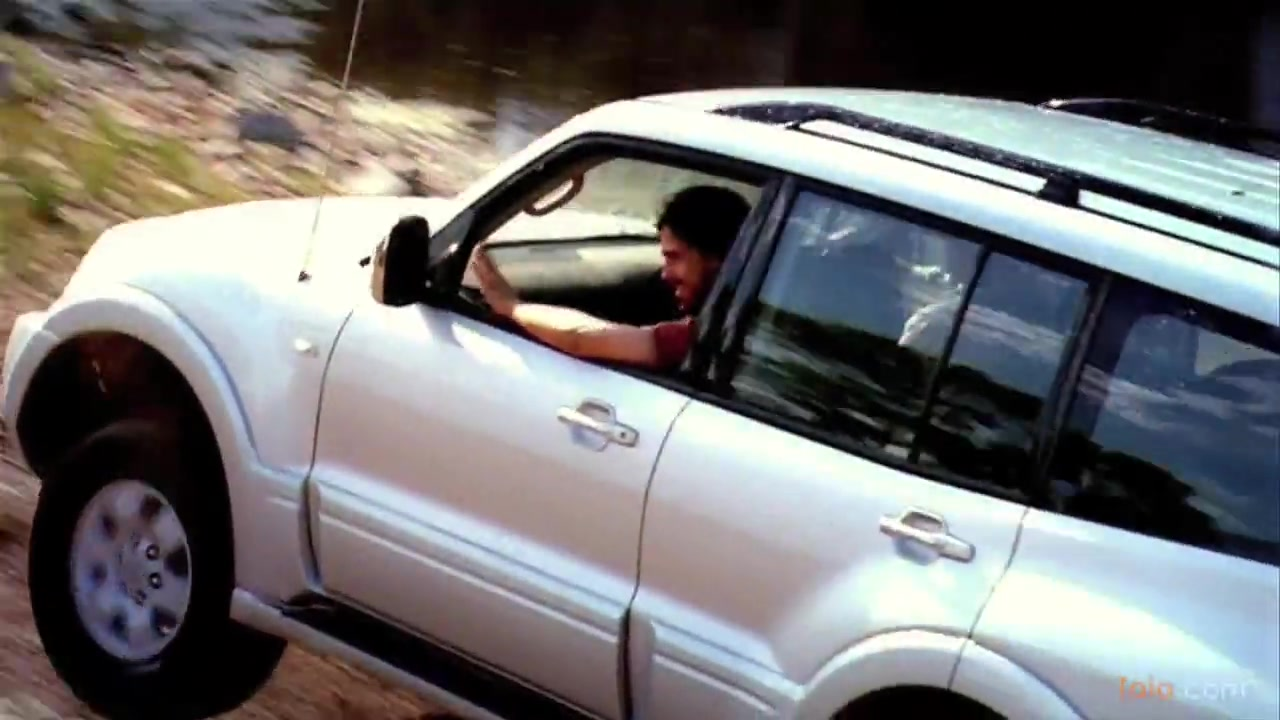car: (4, 78, 1280, 720)
